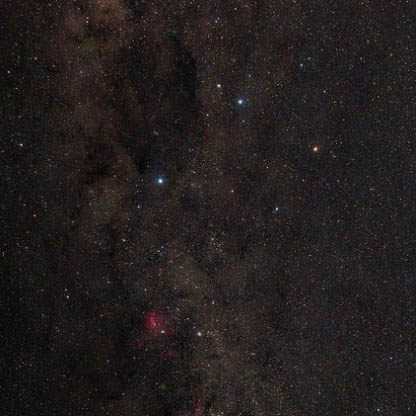Southern Cross: (149, 168, 172, 196), (302, 135, 325, 162), (259, 196, 286, 218), (231, 90, 250, 117)
